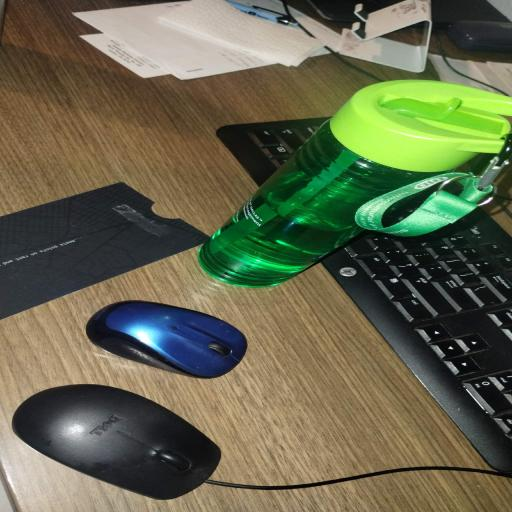mouse: (13, 385, 220, 499), (87, 301, 246, 377)
pen: (227, 0, 297, 26)
waterbottle: (199, 81, 511, 286)
